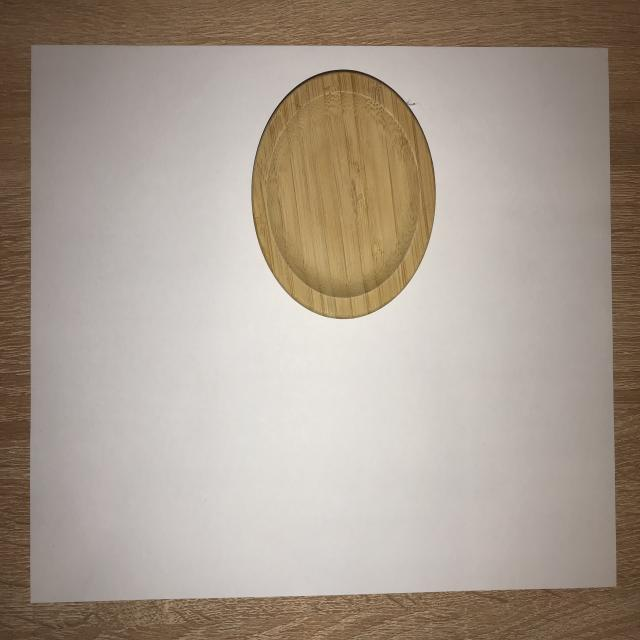cup_holder: (242, 59, 444, 326)
